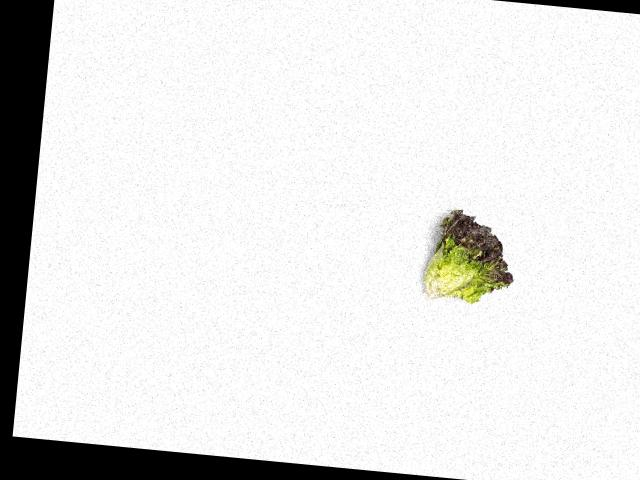lettuce: (421, 201, 518, 310)
